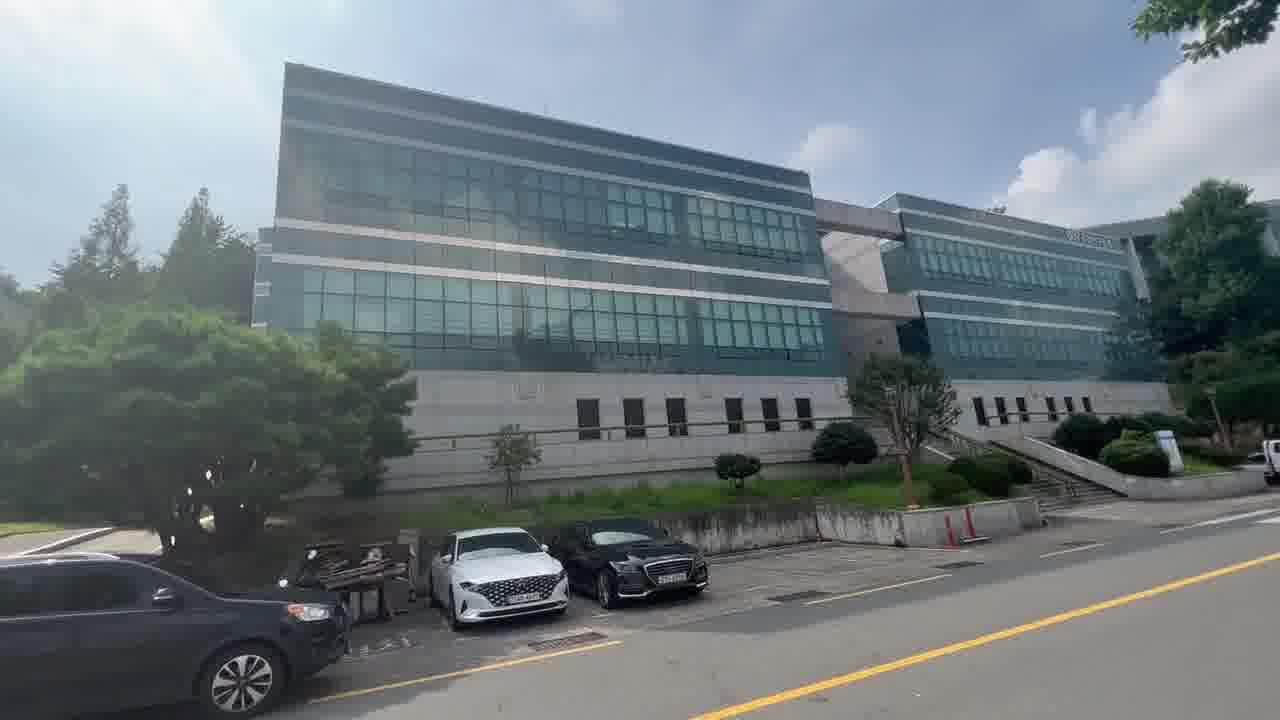building: (237, 60, 1132, 421)
